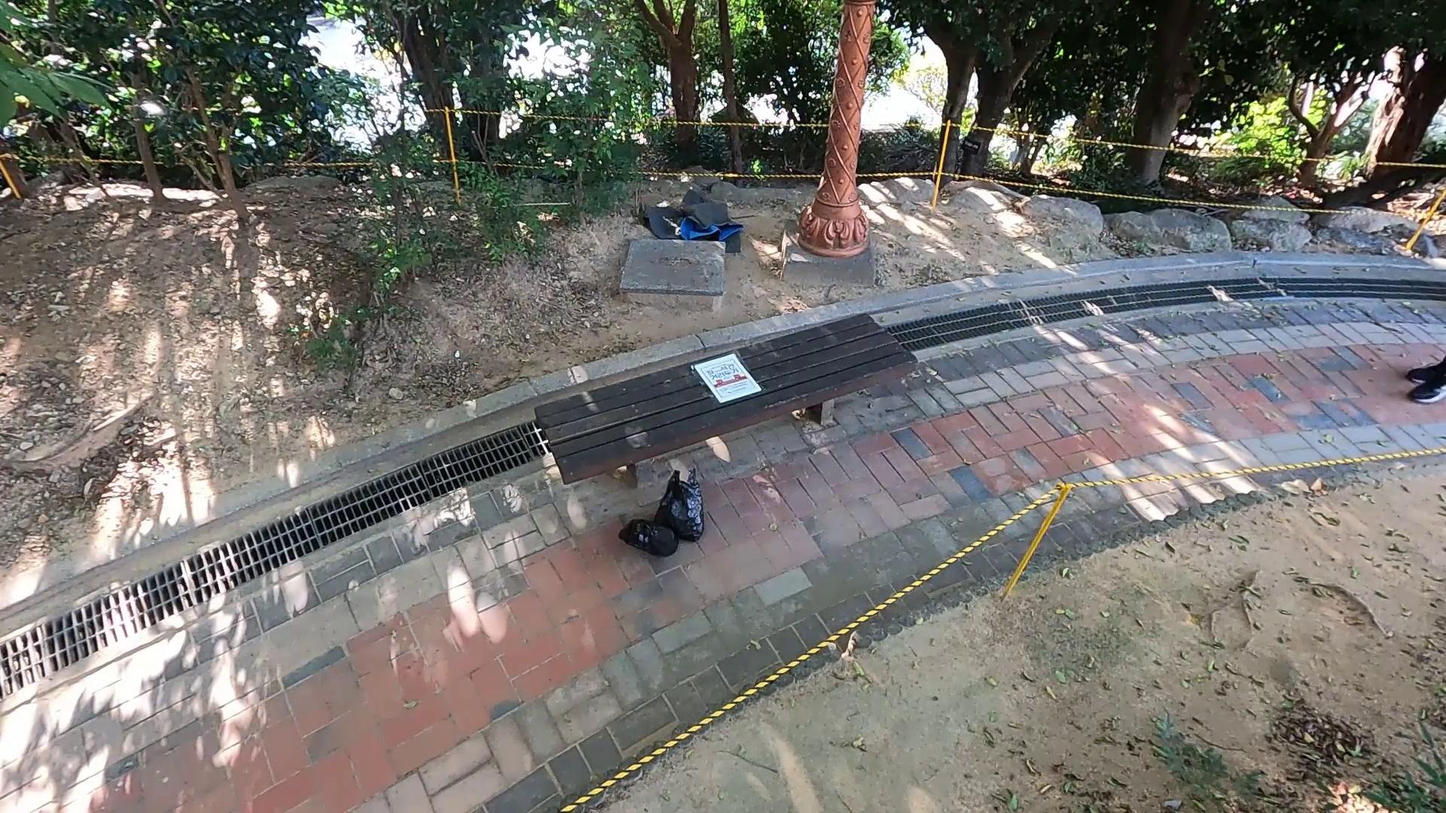trash: (648, 467, 716, 542), (610, 514, 685, 563)
